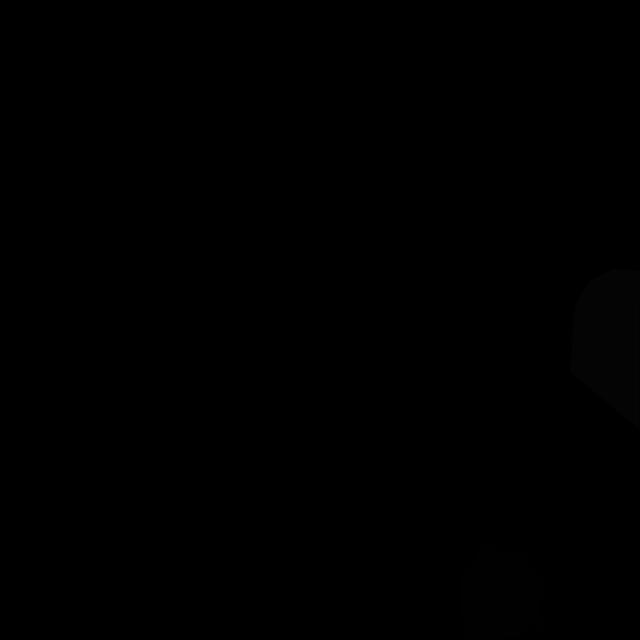rigid_plastic: (459, 536, 548, 639)
soft_plastic: (570, 269, 640, 430)
